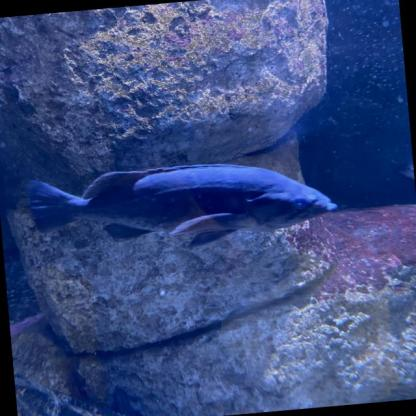fish: (25, 152, 338, 259), (398, 152, 415, 191)
